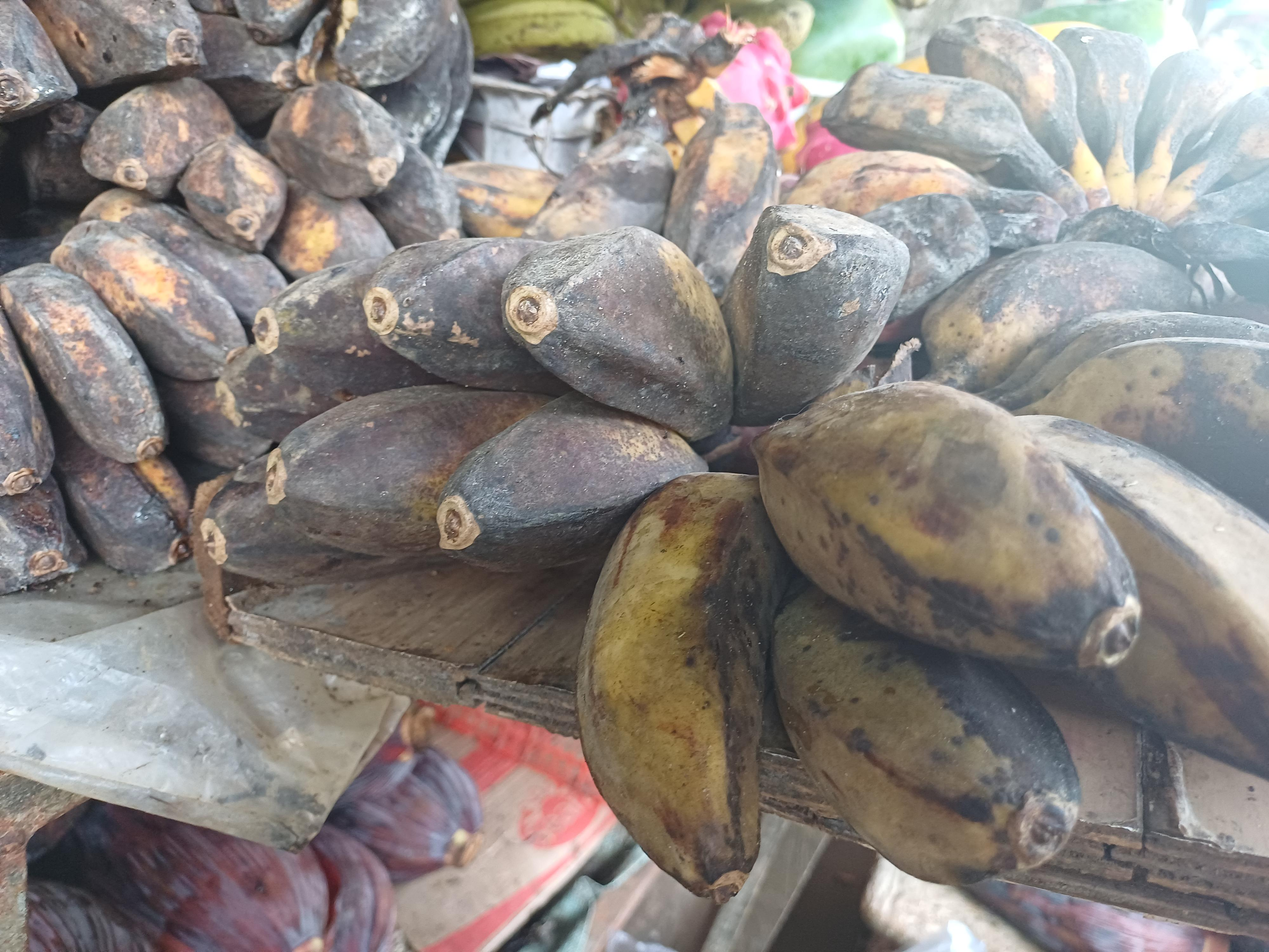overripe: (198, 205, 908, 582), (0, 199, 286, 594), (81, 78, 461, 278), (0, 0, 207, 204)
ripe: (578, 242, 1269, 901), (782, 15, 1269, 349)
